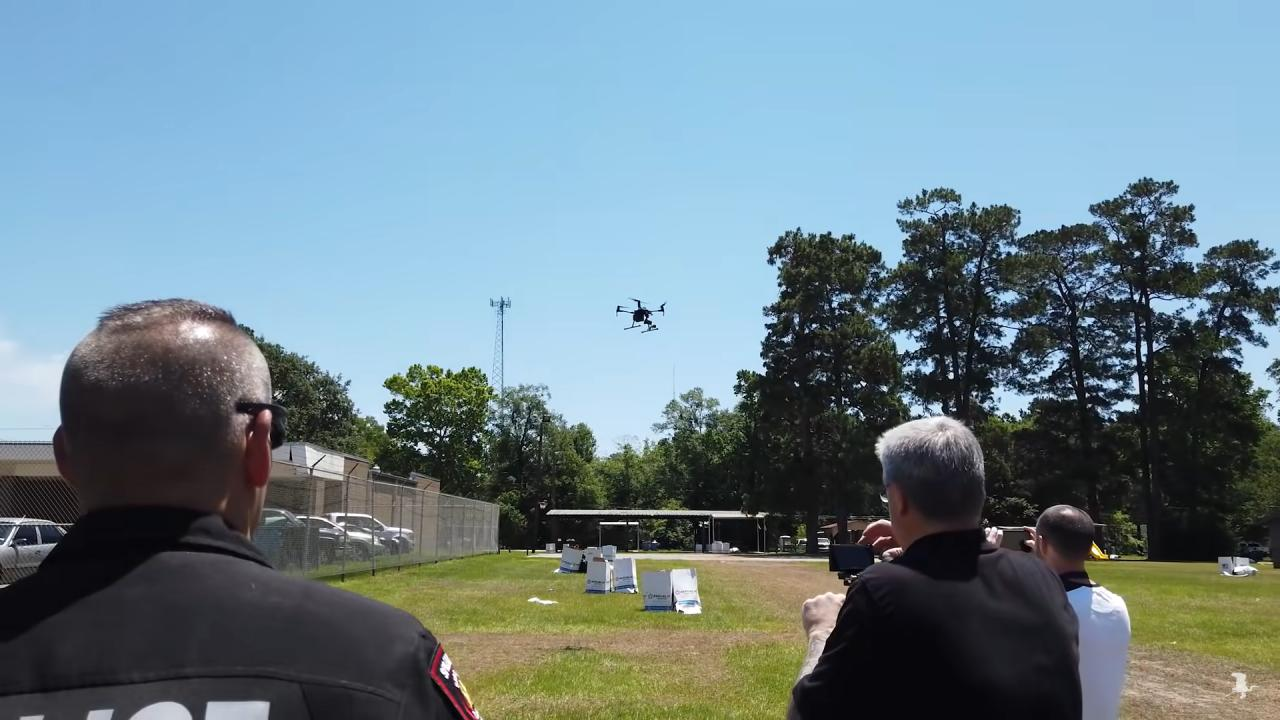Drone: (605, 283, 679, 343)
